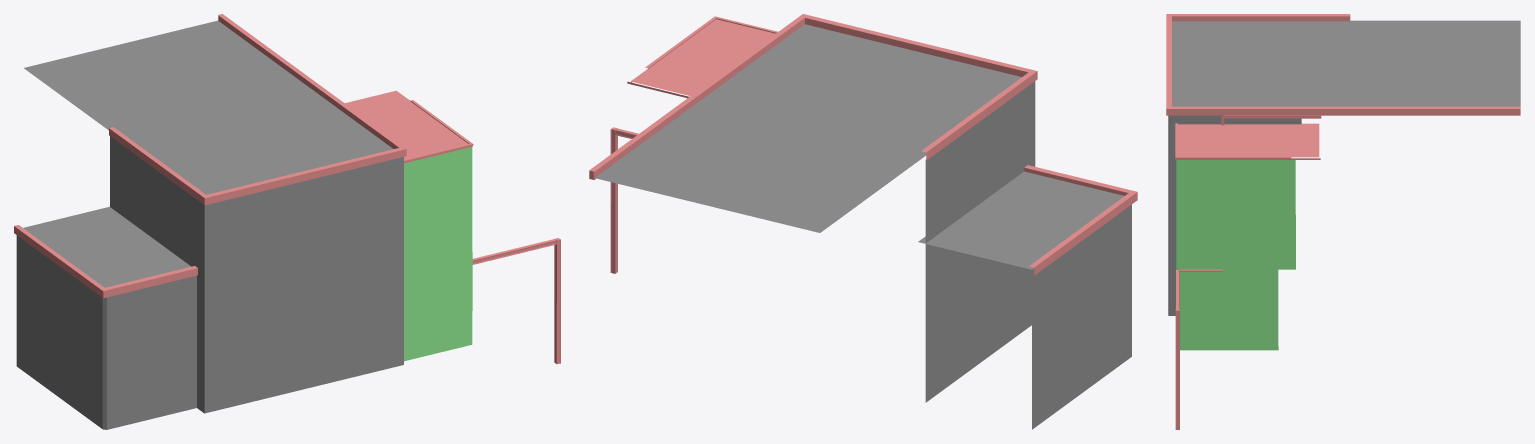
The model's file is S_Envi_Umeda_Building_012k.gltf.
The picture shows the model from 3 angles, left to right: view 1: azimuth 30°, elevation 25°; view 2: azimuth 150°, elevation 25°; view 3: azimuth 270°, elevation 25°; orthographic projection. The views are drawn at different scales.
Visible parts, largest first — view 1: S_Envi_Umeda_Building_012k; view 2: S_Envi_Umeda_Building_012k; view 3: S_Envi_Umeda_Building_012k.
Boxes of the visible parts, left/top/right/bottom form: S_Envi_Umeda_Building_012k: left=14, top=14, right=560, bottom=429; S_Envi_Umeda_Building_012k: left=589, top=14, right=1137, bottom=429; S_Envi_Umeda_Building_012k: left=1166, top=14, right=1520, bottom=429.
Size of the model in its own units: 44.12 by 23.8 by 30.99.
